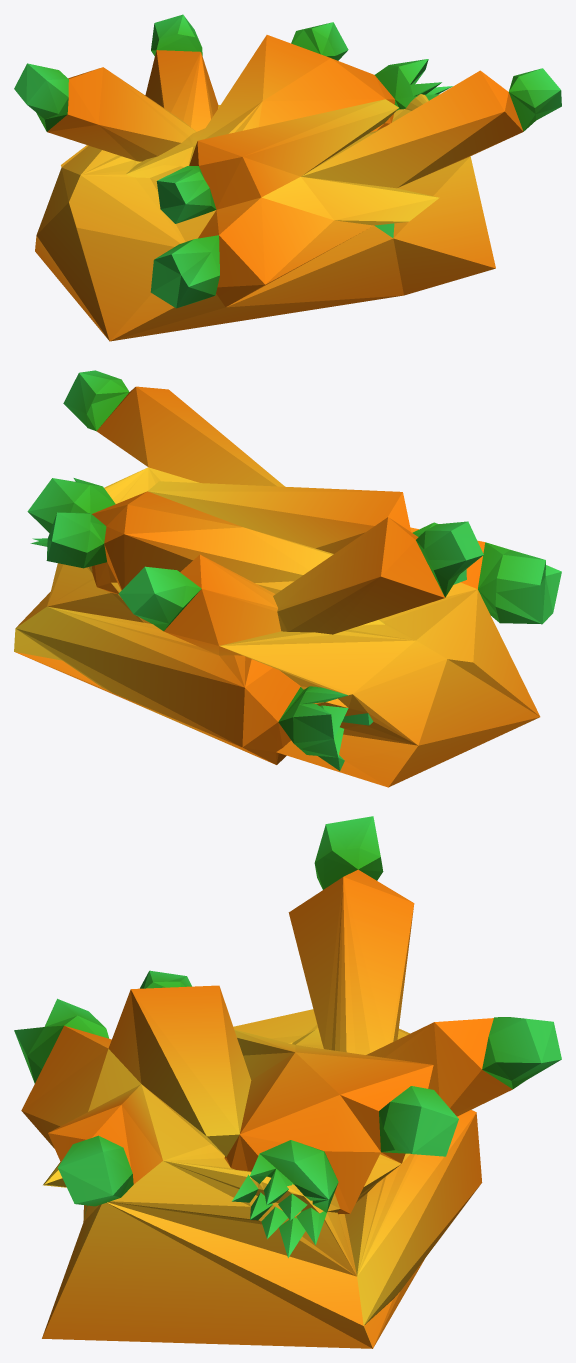
The model's file is carrots_pile_lowpoly.fbx.
The picture shows the model from 3 angles, top to bottom: view 1: azimuth 30°, elevation 25°; view 2: azimuth 150°, elevation 25°; view 3: azimuth 270°, elevation 25°; orthographic projection. The views are drawn at different scales.
Parts seen in each view (by area): view 1: carrots_pile_lowpoly; view 2: carrots_pile_lowpoly; view 3: carrots_pile_lowpoly.
Boxes of the visible parts, <box> form: carrots_pile_lowpoly: <box>14,14,561,341</box>; carrots_pile_lowpoly: <box>14,370,561,787</box>; carrots_pile_lowpoly: <box>14,816,561,1348</box>.
Size of the model in its own units: 447 by 223 by 343.
